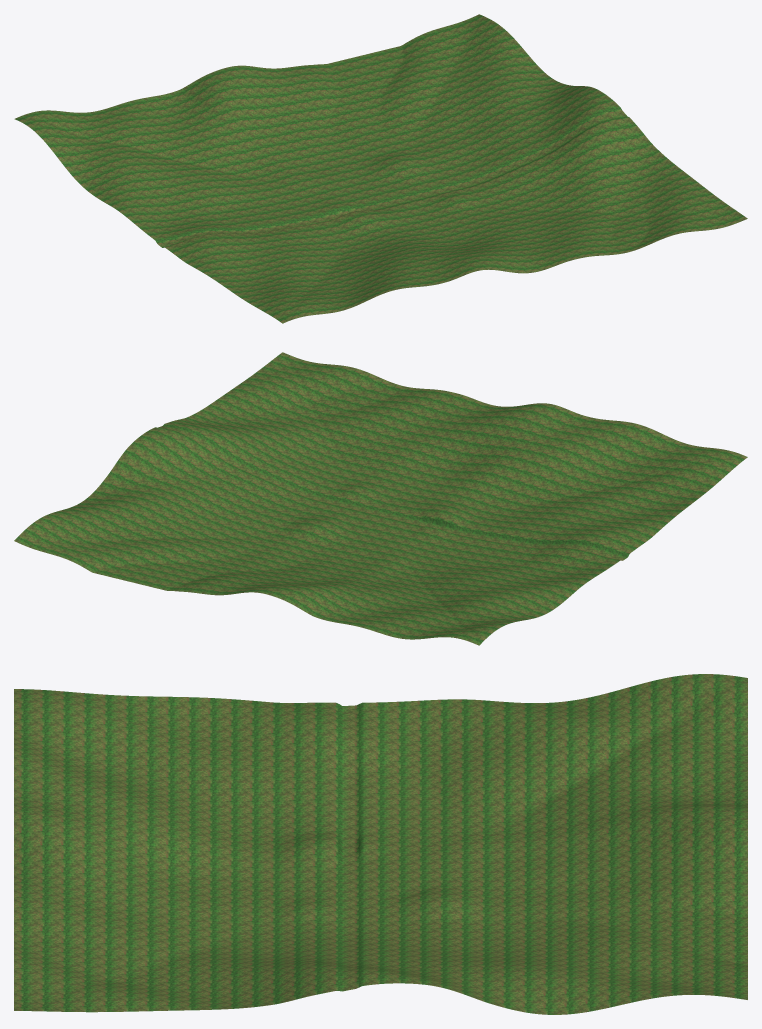
Rendered from terrain_hills.glb.
The picture shows the model from 3 angles, top to bottom: view 1: azimuth 30°, elevation 25°; view 2: azimuth 150°, elevation 25°; view 3: azimuth 270°, elevation 25°; orthographic projection. The views are drawn at different scales.
Visible parts, largest first — view 1: terrain_hills; view 2: terrain_hills; view 3: terrain_hills.
Part boxes in pixels (bbox=[...]): terrain_hills: bbox=[14, 14, 747, 323]; terrain_hills: bbox=[14, 352, 747, 645]; terrain_hills: bbox=[14, 674, 747, 1014].
Bounding box in the file's own units: 280 × 21.95 × 280.
1 material, 1 textured.
